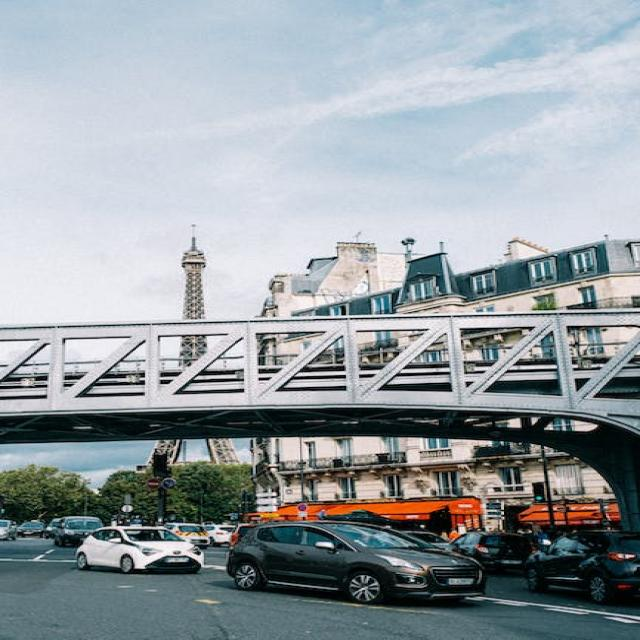no entry: (148, 478, 159, 490)
